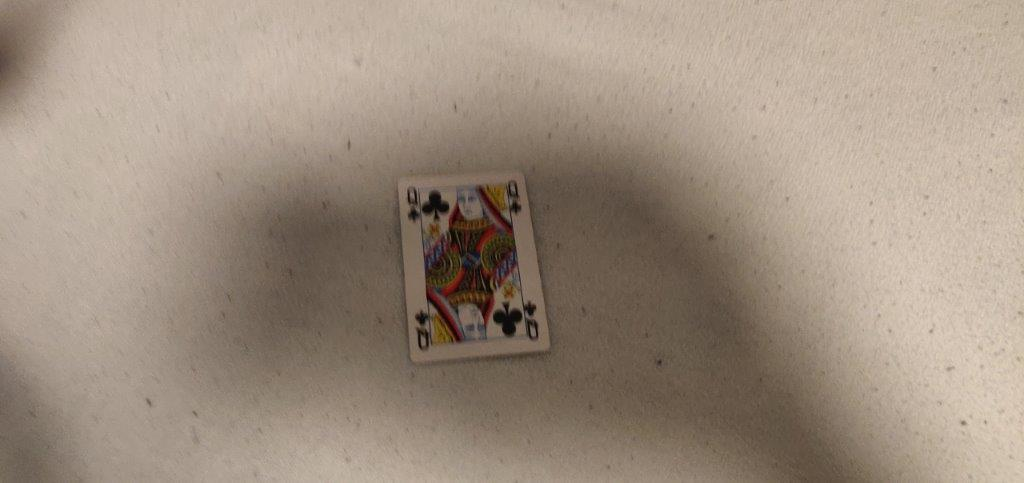QC: (403, 182, 424, 227), (504, 178, 526, 218)
